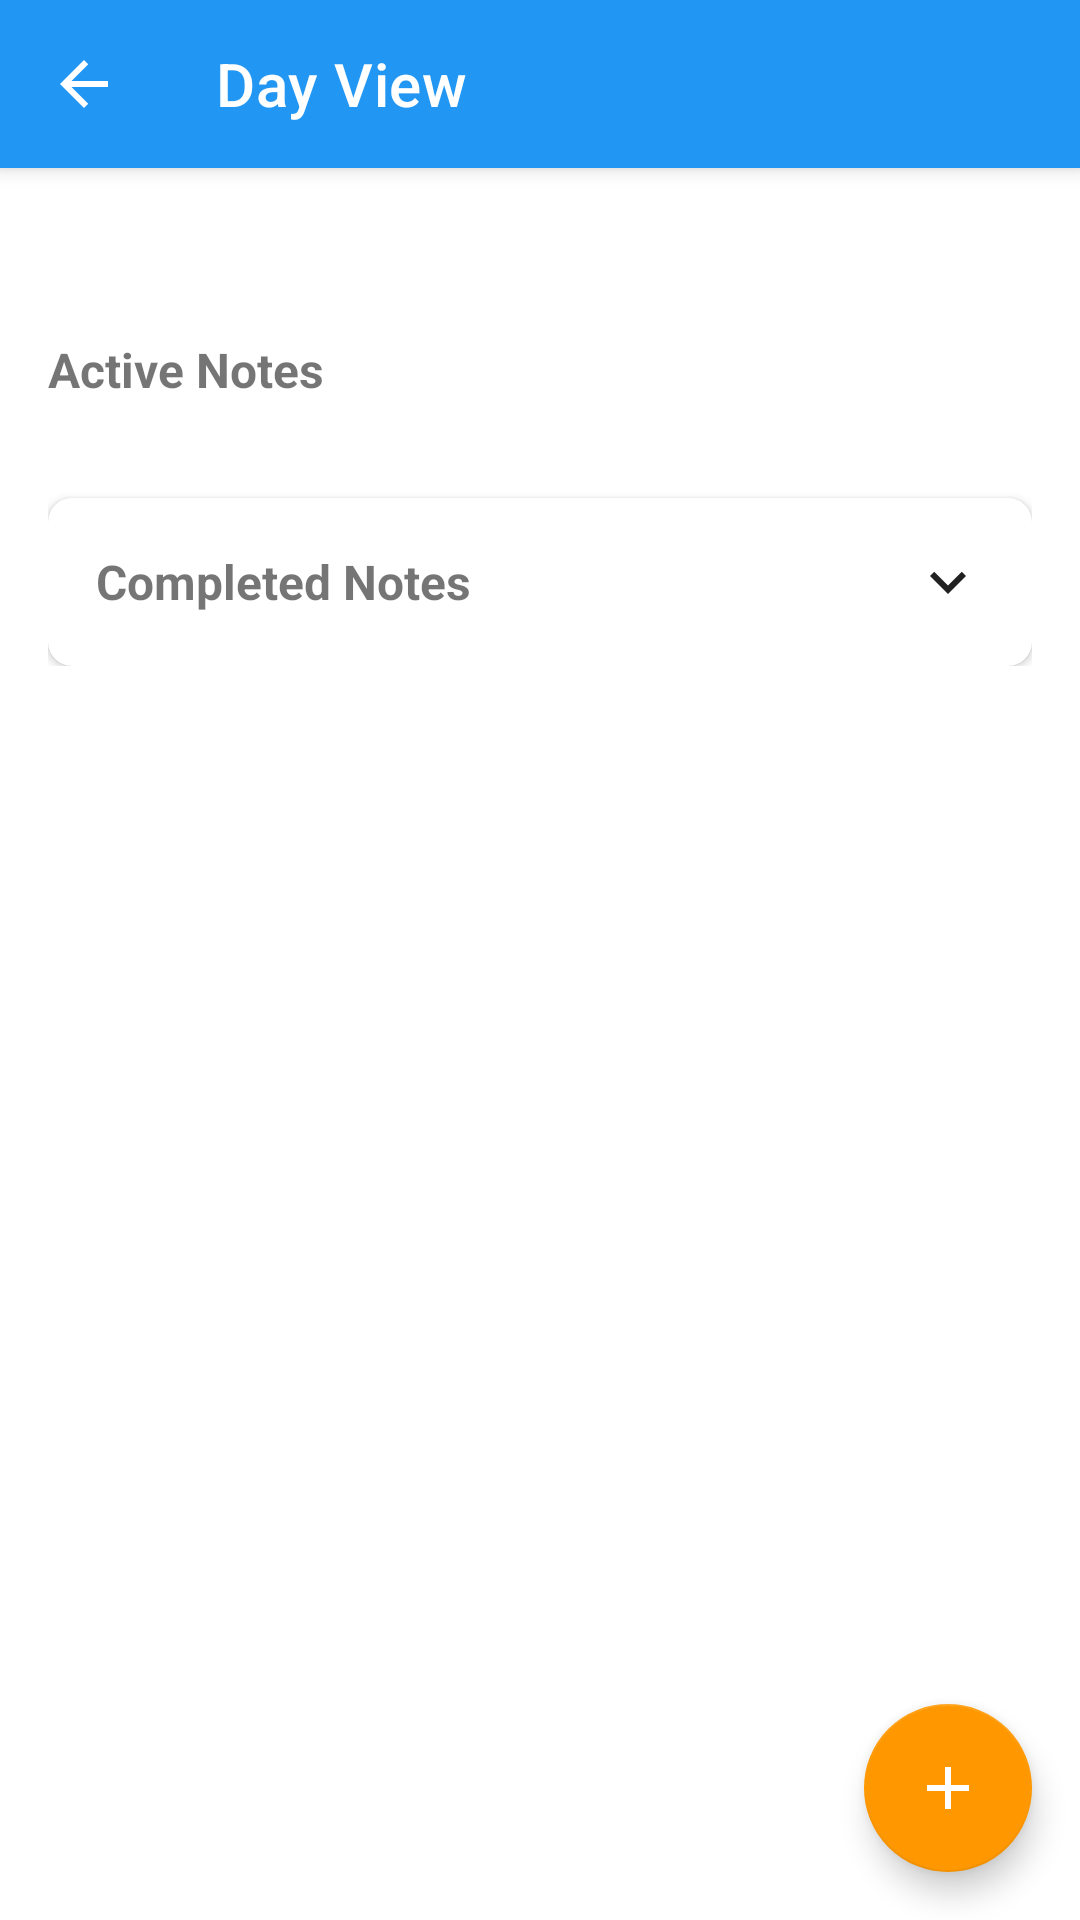

Where icons sit on this 1080 × 1920 app screen, as [x1=x1, y1=y1, x2=x2, y2=y2]:
add: [x1=864, y1=1704, x2=1032, y2=1872]
expand more: [x1=930, y1=572, x2=966, y2=594]
